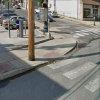Crosswalk: (68, 23, 100, 41)
